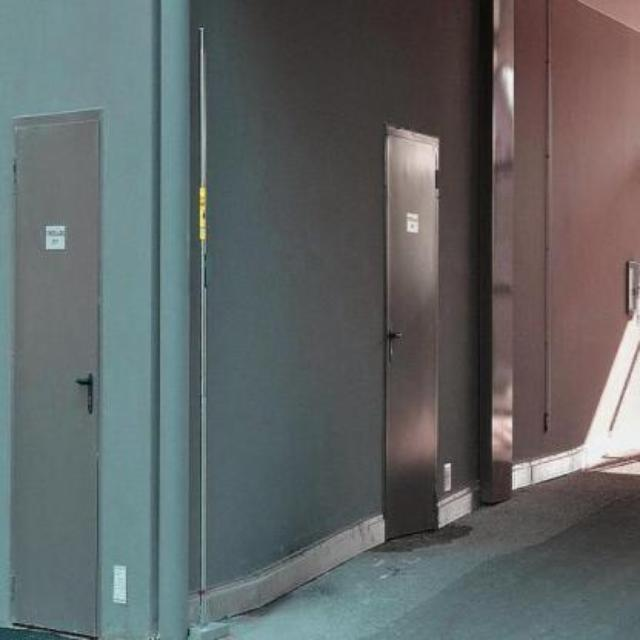door: (10, 110, 109, 640), (379, 103, 450, 544)
